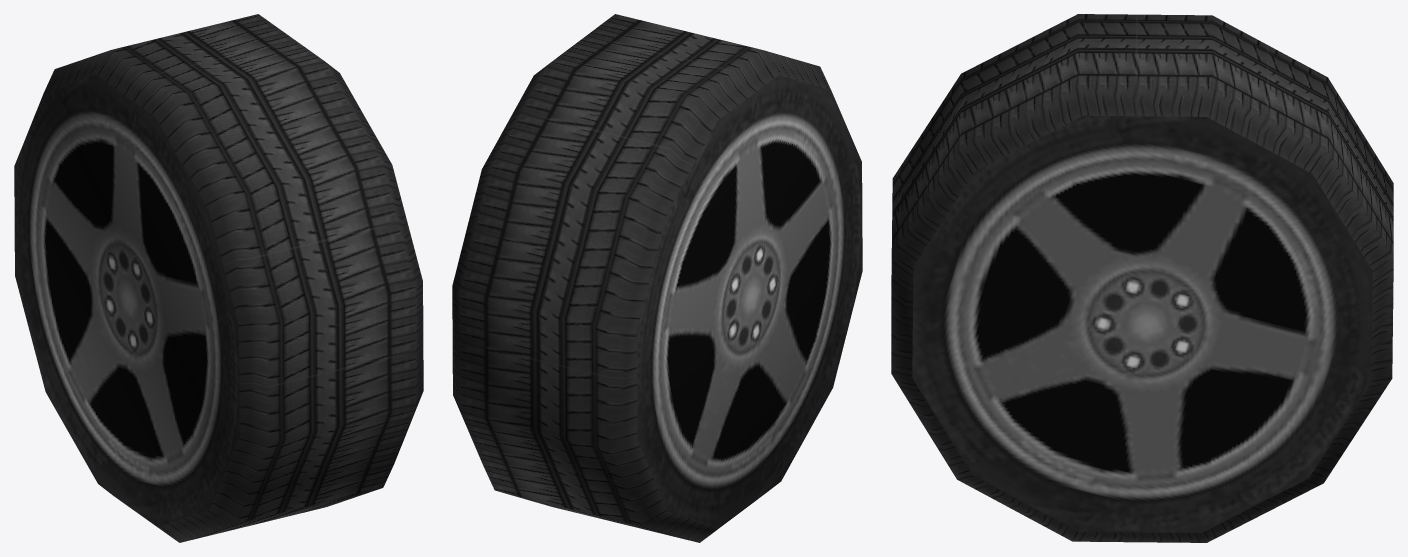
Rendered from WheelStreetPerformance.FBX.
3 views of the same model, side by side, from view 1: azimuth 30°, elevation 25°; view 2: azimuth 150°, elevation 25°; view 3: azimuth 270°, elevation 25° (orthographic). The views are drawn at different scales.
Parts seen in each view (by area): view 1: wheelStreetPerformance001; view 2: wheelStreetPerformance001; view 3: wheelStreetPerformance001.
Boxes of the visible parts, x1,y1,x2,y2 form: wheelStreetPerformance001: (14,14,423,542); wheelStreetPerformance001: (452,14,862,542); wheelStreetPerformance001: (891,14,1393,542).
Size of the model in its own units: 31.62 by 73.12 by 73.12.
